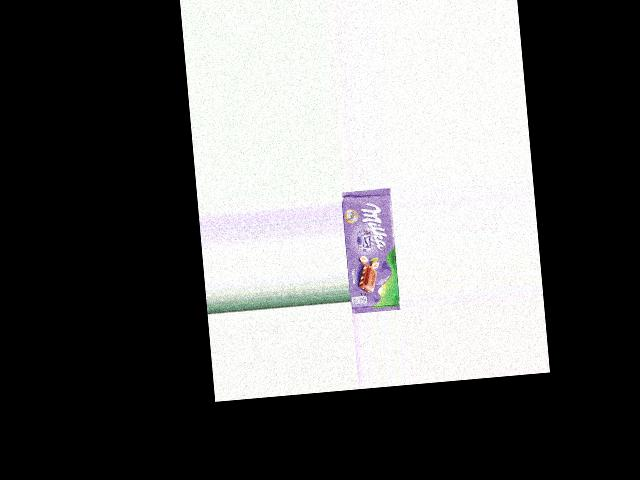chocolate: (340, 188, 400, 314)
